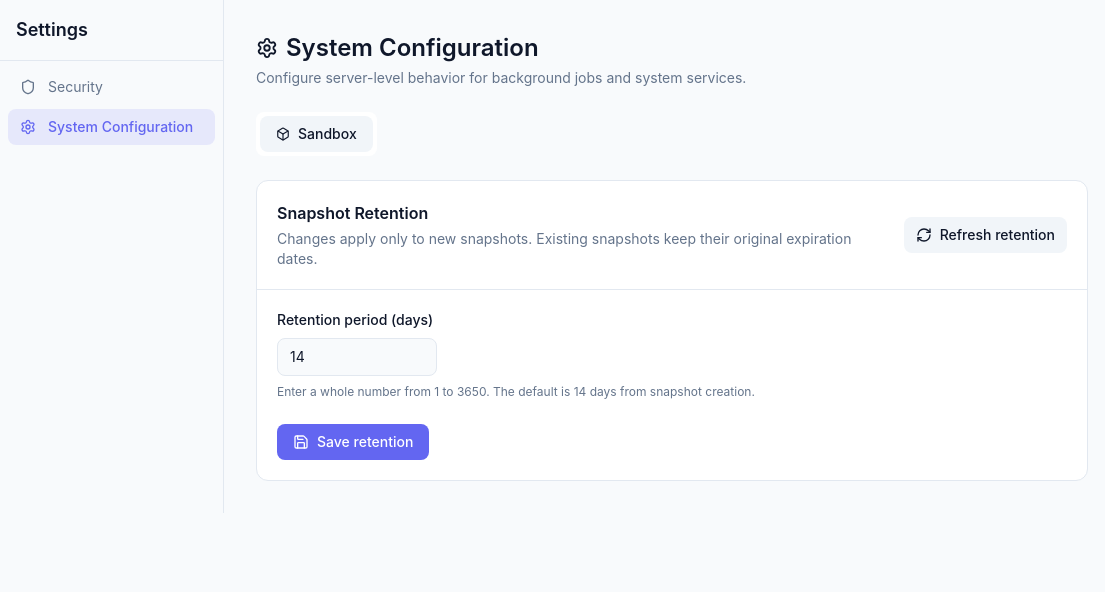
Test: System configuration sandbox permissions › limits a nonadmin with ["sandbox.snapshot.manage"] to retention even when another tab is requested
Expected: the heading "System Configuration" is shown, [256,33,539,62]
Expected: the button "Sandbox" is shown, [260,116,373,152]
Step 1. Replace the text in the number field labelled "Retention period (days)" with "21" → (357, 357), box [277,338,437,376]
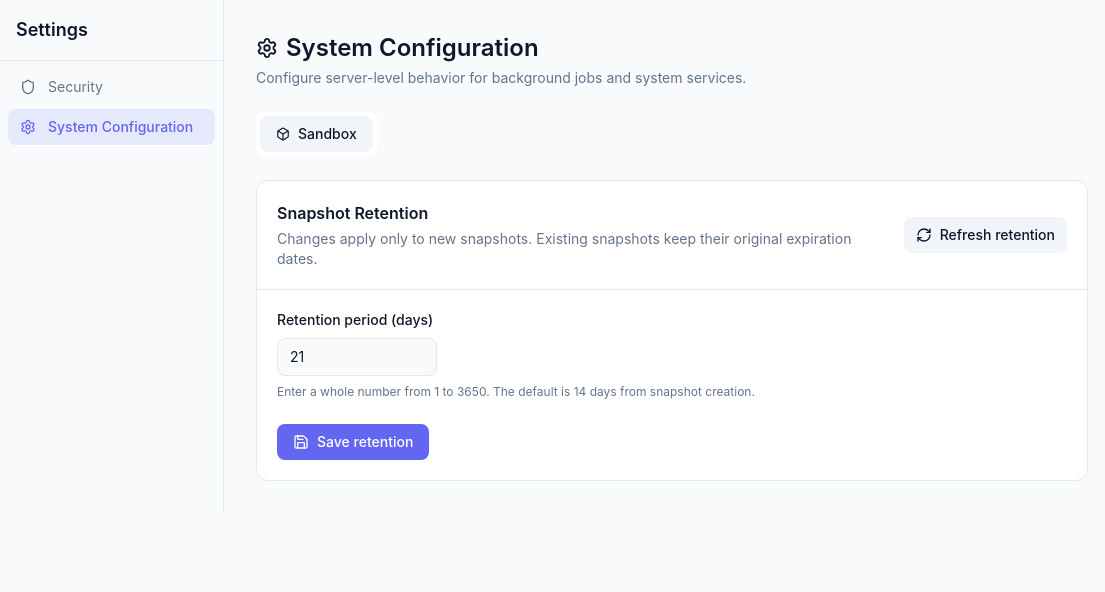
Step 2. Click the button "Save retention" → click(353, 442), box [277,424,429,460]
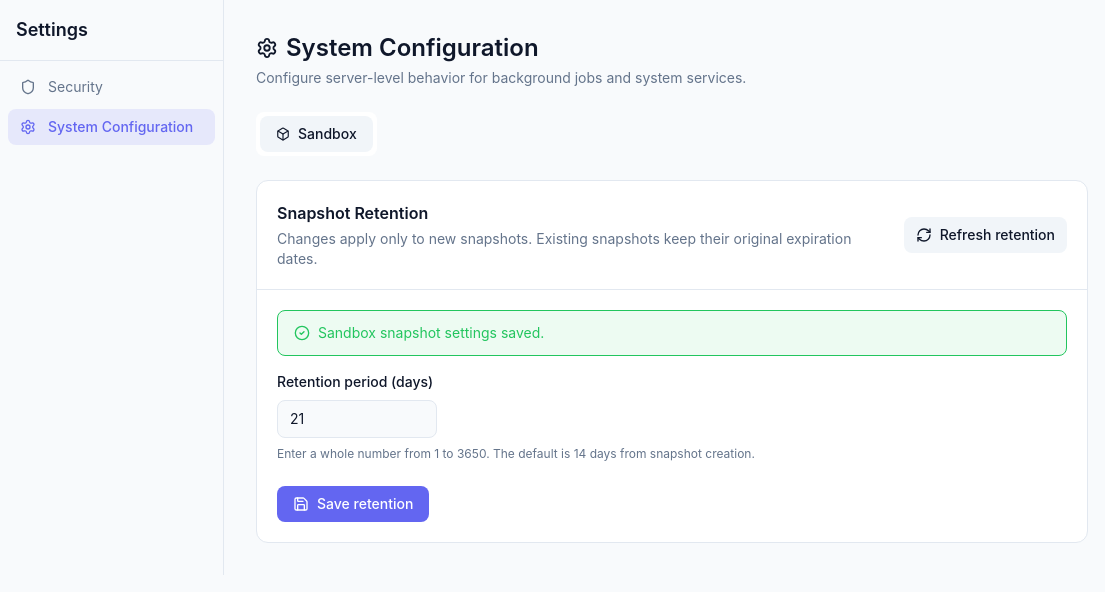
Now the message reads "Sandbox snapshot settings saved.", box [318,324,544,341]
